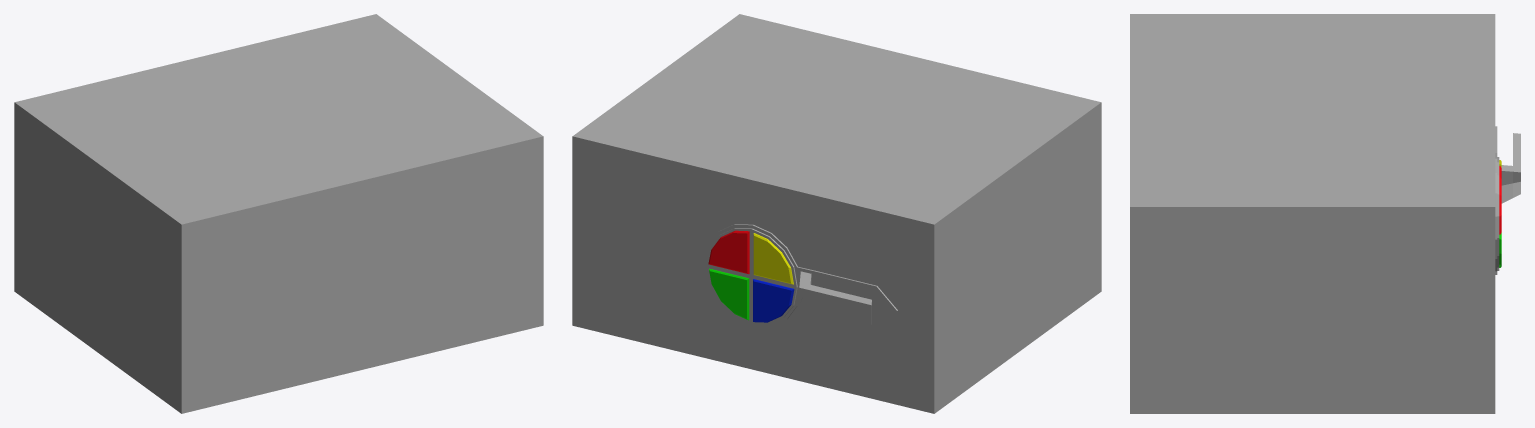
Rendered from simonSaysSafe.fbx.
3 views of the same model, side by side, from view 1: azimuth 30°, elevation 25°; view 2: azimuth 150°, elevation 25°; view 3: azimuth 270°, elevation 25° (orthographic). The views are drawn at different scales.
Visible parts, largest first — view 1: Skrytka; view 2: Skrytka, Drzwiczki, PrzyciskNiebieski, PrzyciskCzerwony, PrzyciskZielony, PrzyciskŻółty; view 3: Skrytka, Drzwiczki.
Part boxes in pixels (x1=…): Skrytka: x1=14, y1=14, x2=543, y2=413; Skrytka: x1=572, y1=14, x2=1101, y2=413; Drzwiczki: x1=588, y1=156, x2=918, y2=393; PrzyciskNiebieski: x1=753, y1=279, x2=794, y2=322; PrzyciskCzerwony: x1=708, y1=230, x2=749, y2=273; PrzyciskZielony: x1=709, y1=268, x2=749, y2=320; PrzyciskŻółty: x1=753, y1=233, x2=793, y2=284; Skrytka: x1=1130, y1=14, x2=1495, y2=413; Drzwiczki: x1=1495, y1=126, x2=1520, y2=274.
Size of the model in its own units: 60 by 30.62 by 51.34.
